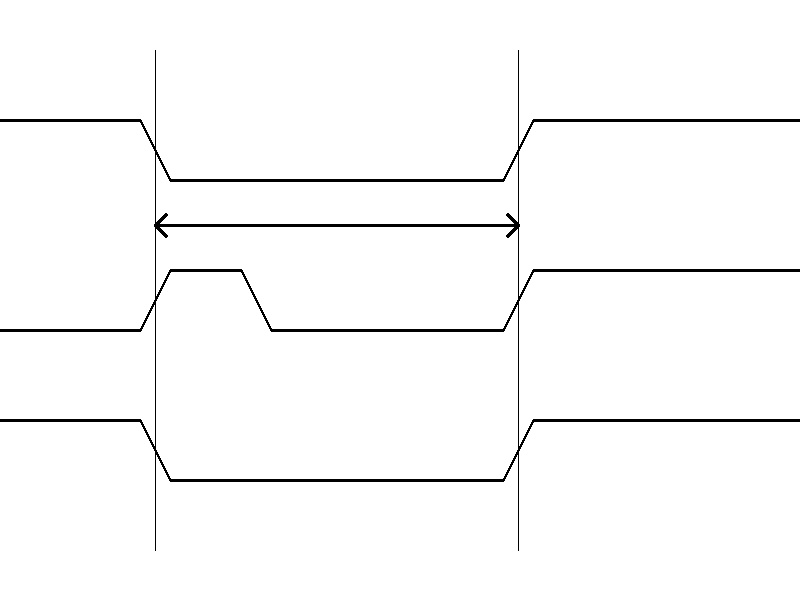double_arrow: (155, 210, 518, 240)
